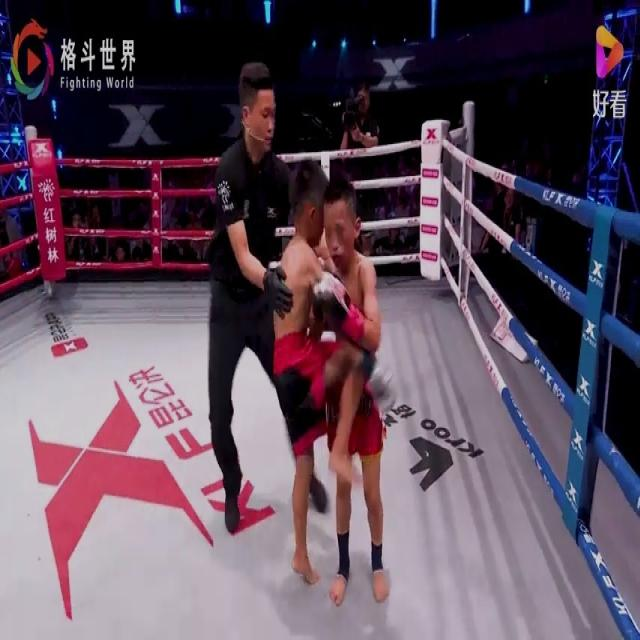fight: (272, 158, 397, 614)
non-fight: (194, 52, 299, 552)
